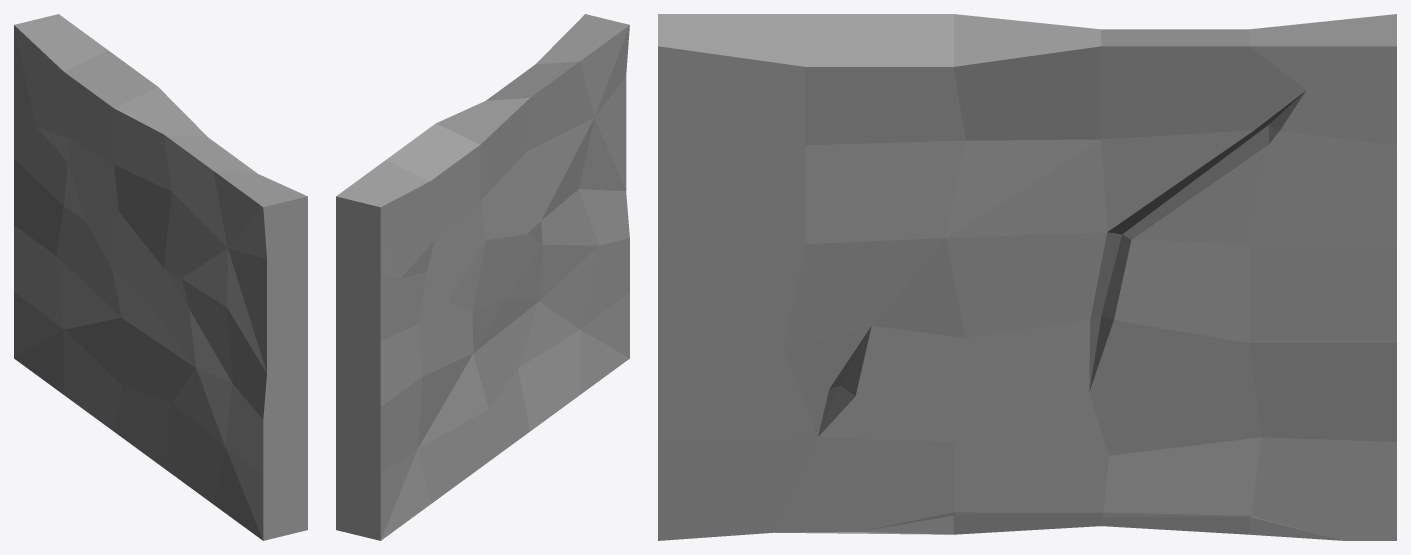
Rendered from Fixed Mesh 2.fbx.
3 views of the same model, side by side, from view 1: azimuth 30°, elevation 25°; view 2: azimuth 150°, elevation 25°; view 3: azimuth 270°, elevation 25° (orthographic). The views are drawn at different scales.
Parts seen in each view (by area): view 1: Cube.274; view 2: Cube.274; view 3: Cube.274.
Boxes of the visible parts, <box> form: Cube.274: <box>14,14,307,540</box>; Cube.274: <box>336,14,629,540</box>; Cube.274: <box>658,14,1396,540</box>.
Bounding box in the file's own units: 60 × 428 × 580.
